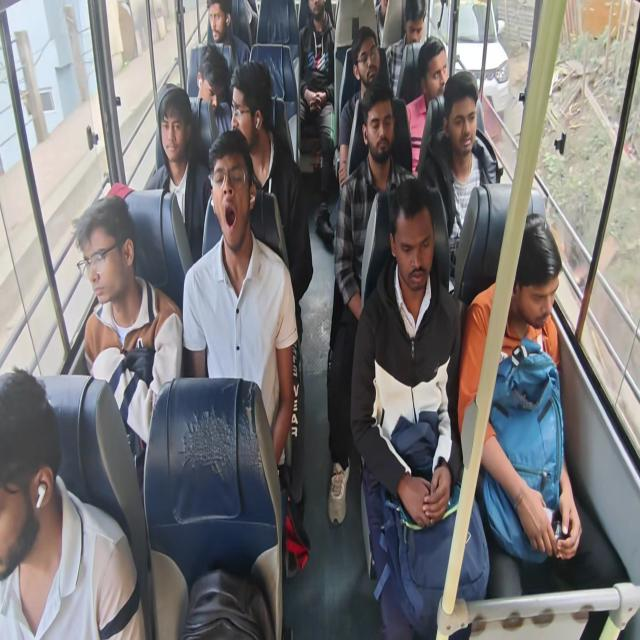person: (0, 368, 54, 570), (507, 222, 557, 339), (210, 156, 252, 254), (78, 219, 131, 296), (397, 210, 434, 299), (449, 76, 481, 162), (365, 95, 400, 167), (354, 34, 386, 91), (228, 78, 256, 141), (424, 45, 449, 105), (202, 0, 233, 39), (196, 57, 226, 97), (160, 108, 182, 156), (404, 4, 426, 46), (310, 0, 330, 25)
